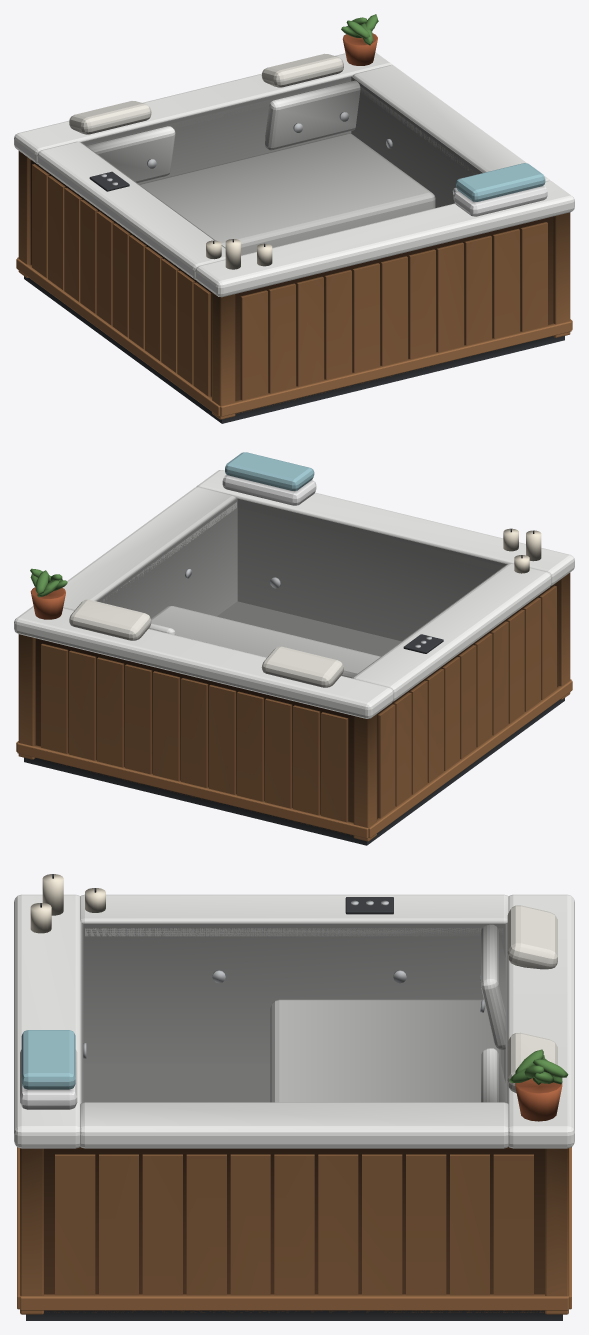
The model's file is whirlpoolTub.glb.
The picture shows the model from 3 angles, top to bottom: view 1: azimuth 30°, elevation 25°; view 2: azimuth 150°, elevation 25°; view 3: azimuth 270°, elevation 25°; orthographic projection. The views are drawn at different scales.
Parts seen in each view (by area): view 1: body; view 2: body; view 3: body.
Boxes of the visible parts, x1,y1,x2,y2 form: body: (14,14,574,423); body: (14,452,574,845); body: (14,874,574,1320).
Bounding box in the file's own units: 1.86 × 0.9286 × 1.86.
